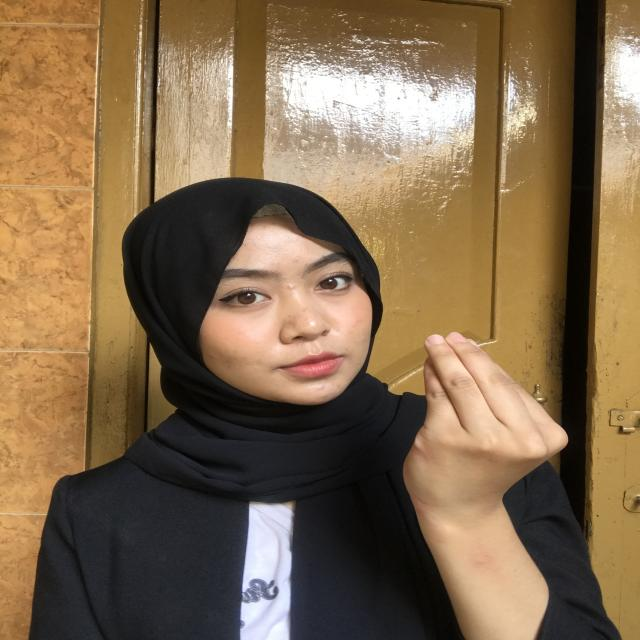kapan: (397, 317, 574, 510)
